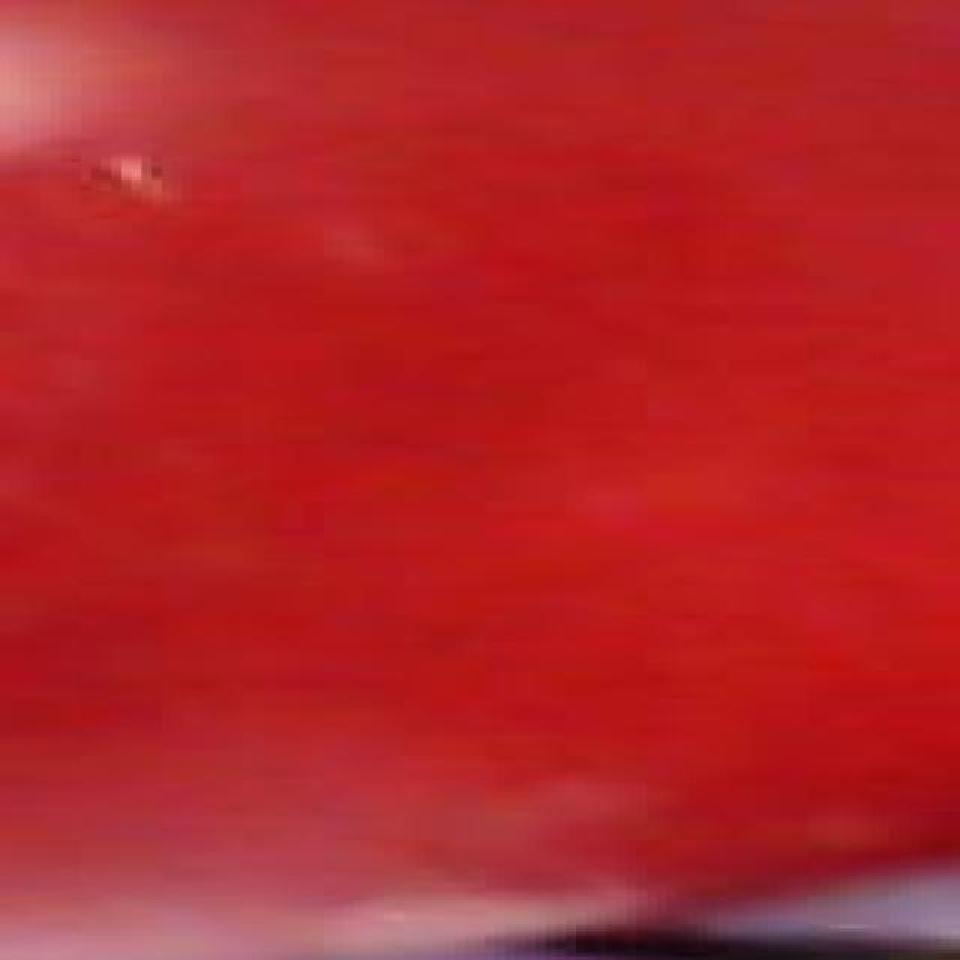Healthy: (4, 13, 960, 886)
